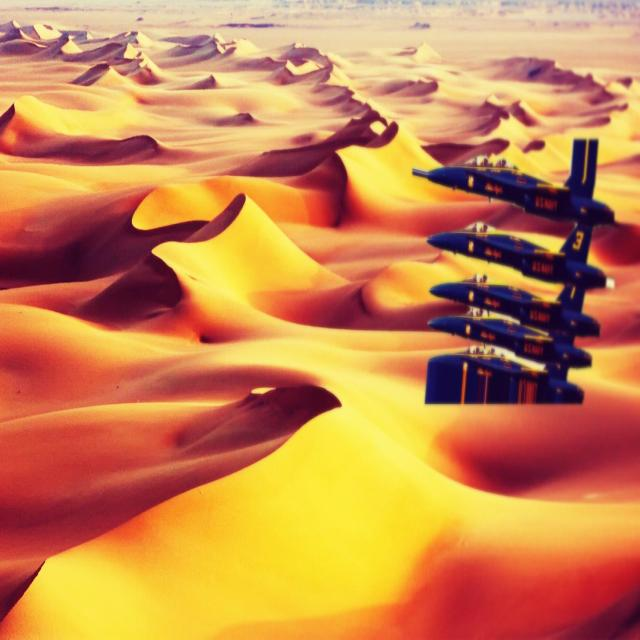airplane: (412, 136, 617, 226), (426, 219, 615, 290), (428, 272, 601, 338), (424, 345, 584, 405), (426, 313, 592, 368)
